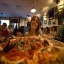pizza: (1, 38, 64, 64)
